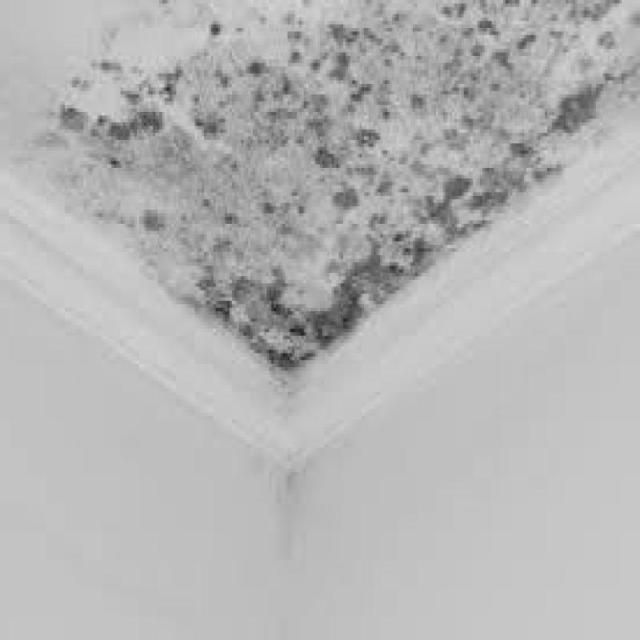stain marks: (2, 0, 637, 388)
